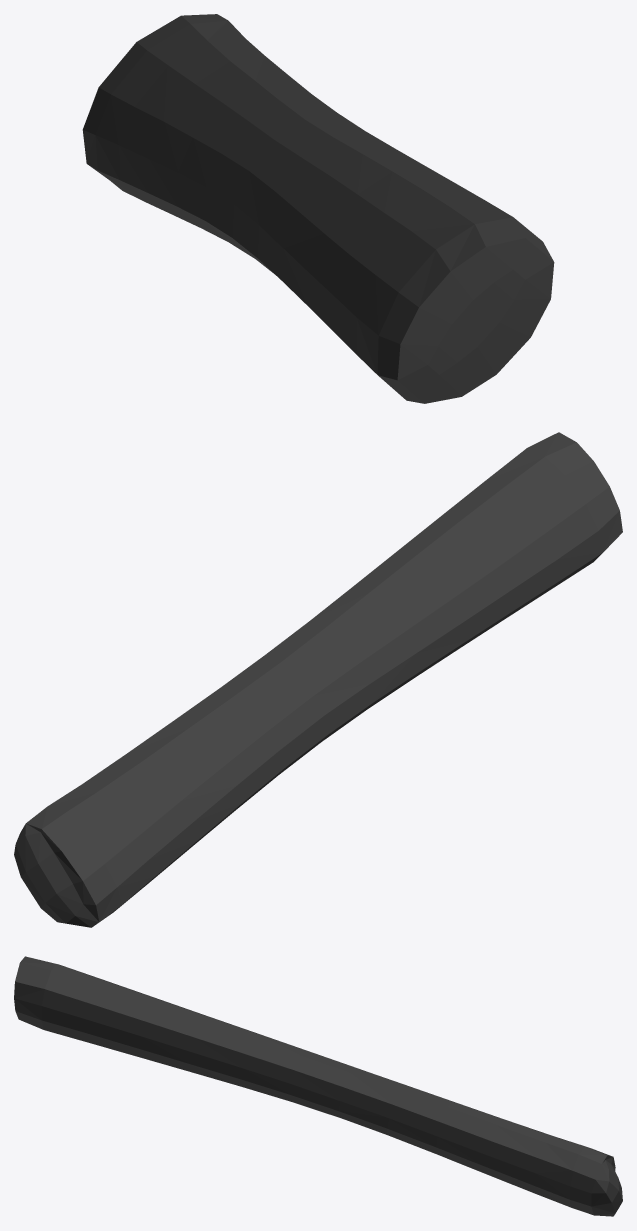
File: lig_vestibular_LO_L.glb
3 renders of one model, top to bottom at view 1: azimuth 30°, elevation 25°; view 2: azimuth 150°, elevation 25°; view 3: azimuth 270°, elevation 25°, orthographic. The views are drawn at different scales.
Visible parts, largest first — view 1: lig_vestibular_LO_L; view 2: lig_vestibular_LO_L; view 3: lig_vestibular_LO_L.
Part boxes in pixels (x1,y1,x2,y2): lig_vestibular_LO_L: [82, 14, 554, 403]; lig_vestibular_LO_L: [14, 432, 622, 927]; lig_vestibular_LO_L: [14, 956, 622, 1216].
Size of the model in its own units: 0.0161 by 0.0156 by 0.042.
1 material, 1 textured.
